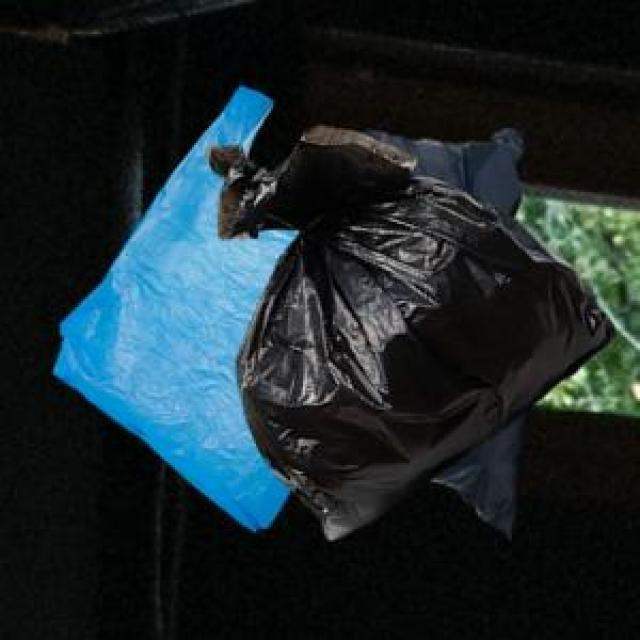miscellaneous trash: (203, 122, 610, 536), (361, 126, 524, 533)
